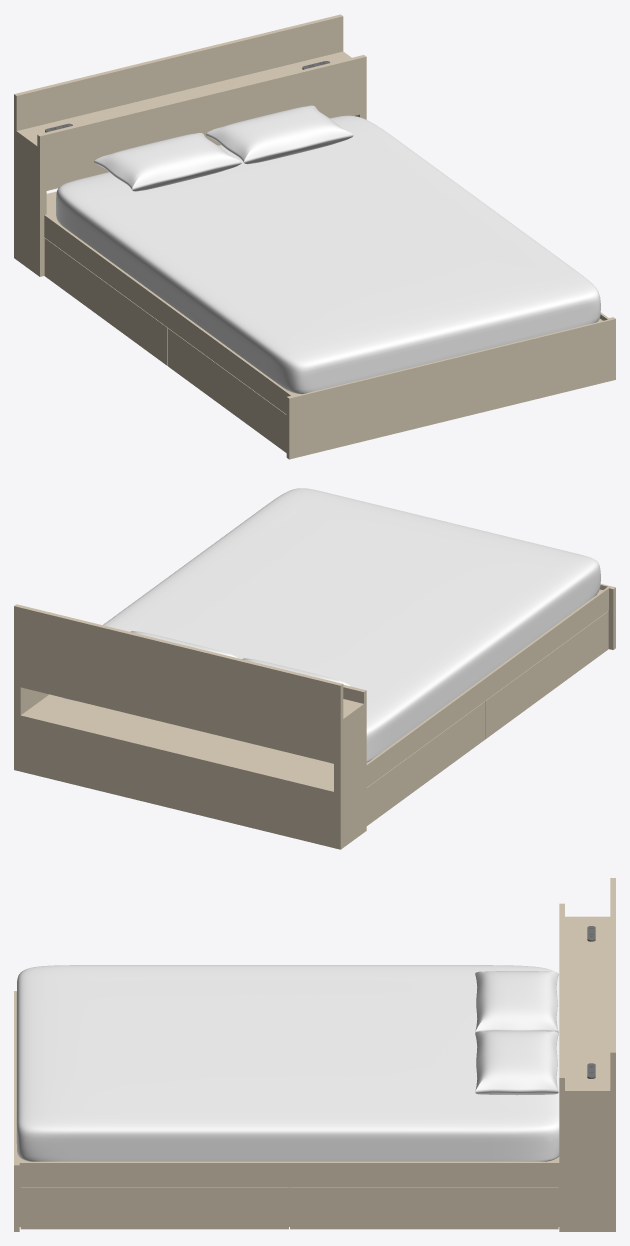
Rendered from ベッド枕２つ.fbx.
The picture shows the model from 3 angles, top to bottom: view 1: azimuth 30°, elevation 25°; view 2: azimuth 150°, elevation 25°; view 3: azimuth 270°, elevation 25°; orthographic projection. The views are drawn at different scales.
Visible parts, largest first — view 1: マットレス, body, 枕1, 枕2, 引き出し4, 引き出し3; view 2: マットレス, body, 引き出し3, 引き出し4; view 3: マットレス, body, 引き出し2, 引き出し1, 枕2, 枕1.
Part boxes in pixels (x1,y1,x2,y2): マットレス: (56, 115, 600, 394); body: (14, 14, 615, 459); 枕1: (94, 133, 241, 191); 枕2: (206, 105, 353, 164); 引き出し4: (44, 238, 167, 365); 引き出し3: (168, 328, 286, 452); マットレス: (62, 488, 600, 763); body: (14, 584, 615, 849); 引き出し3: (485, 611, 608, 739); 引き出し4: (366, 701, 485, 825); マットレス: (16, 965, 559, 1161); body: (14, 878, 615, 1231); 引き出し2: (290, 1187, 558, 1229); 引き出し1: (20, 1187, 288, 1229); 枕2: (475, 1030, 558, 1095); 枕1: (475, 971, 558, 1032).
Size of the model in its own units: 146 by 70 by 213.
